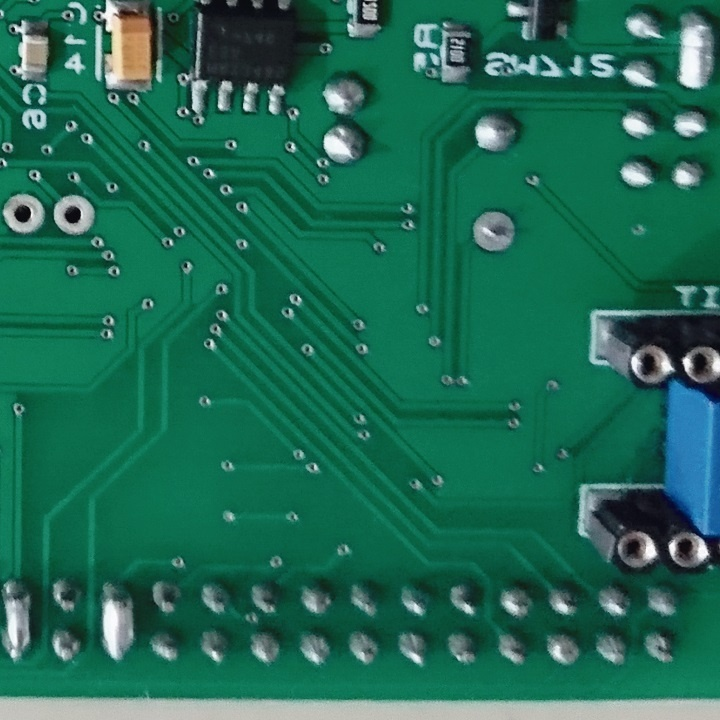F: (471, 206, 519, 260), (2, 187, 48, 240), (51, 190, 98, 238)
P: (673, 6, 719, 101), (99, 574, 136, 666), (2, 572, 33, 666)
